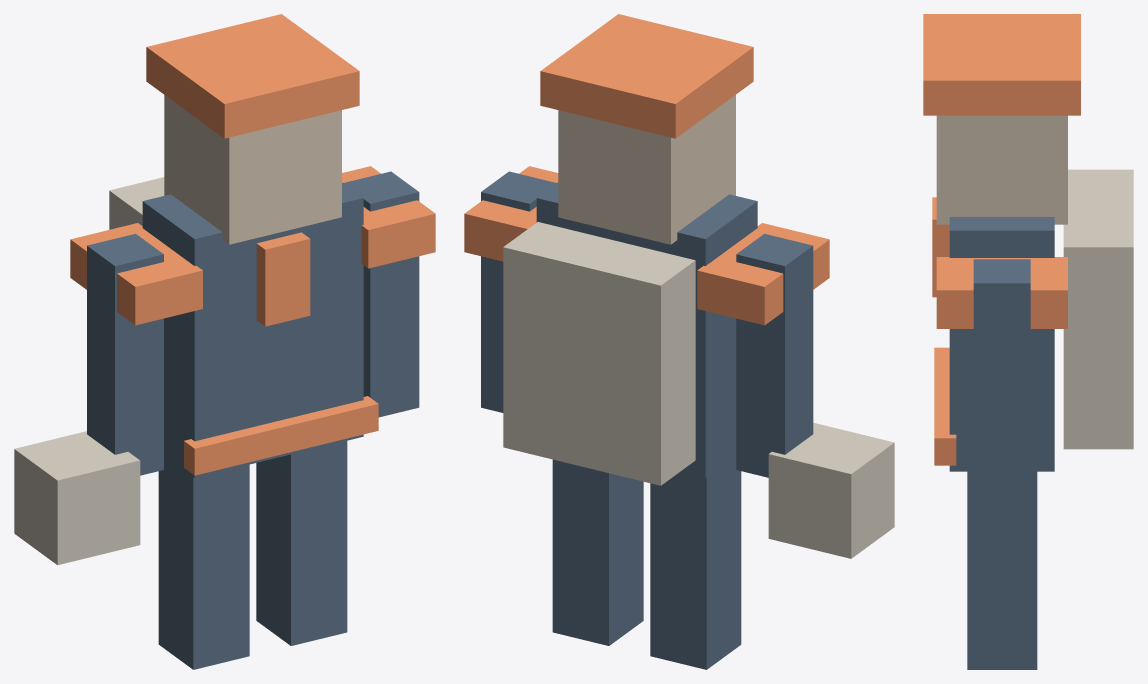
Rendered from 11_kael_ashvein_marshal_under_counterweight.glb.
The picture shows the model from 3 angles, left to right: view 1: azimuth 30°, elevation 25°; view 2: azimuth 150°, elevation 25°; view 3: azimuth 270°, elevation 25°; orthographic projection.
Parts seen in each view (by area): view 1: Kael Ashvein, Marshal under Counterweight; view 2: Kael Ashvein, Marshal under Counterweight; view 3: Kael Ashvein, Marshal under Counterweight.
Boxes of the visible parts, bbox=[...] form: Kael Ashvein, Marshal under Counterweight: bbox=[14, 14, 435, 669]; Kael Ashvein, Marshal under Counterweight: bbox=[464, 14, 894, 669]; Kael Ashvein, Marshal under Counterweight: bbox=[923, 14, 1133, 669].
Bounding box in the file's own units: 0.9791 × 1.45 × 0.4723.
